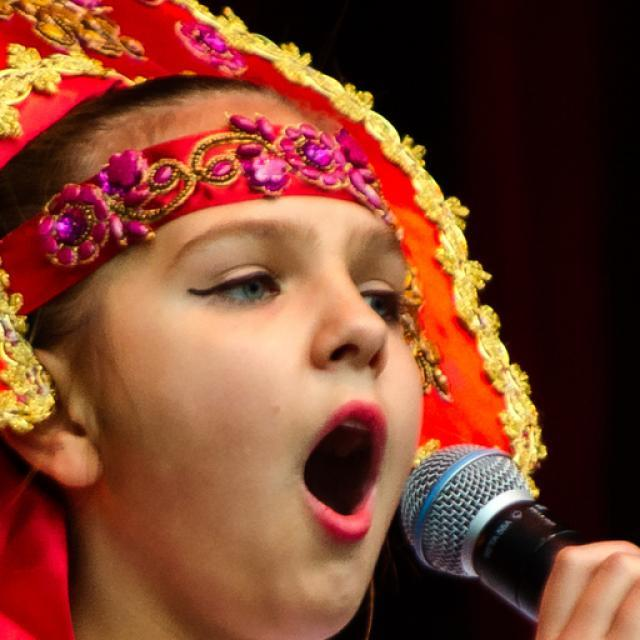surprise: (102, 94, 423, 633)
